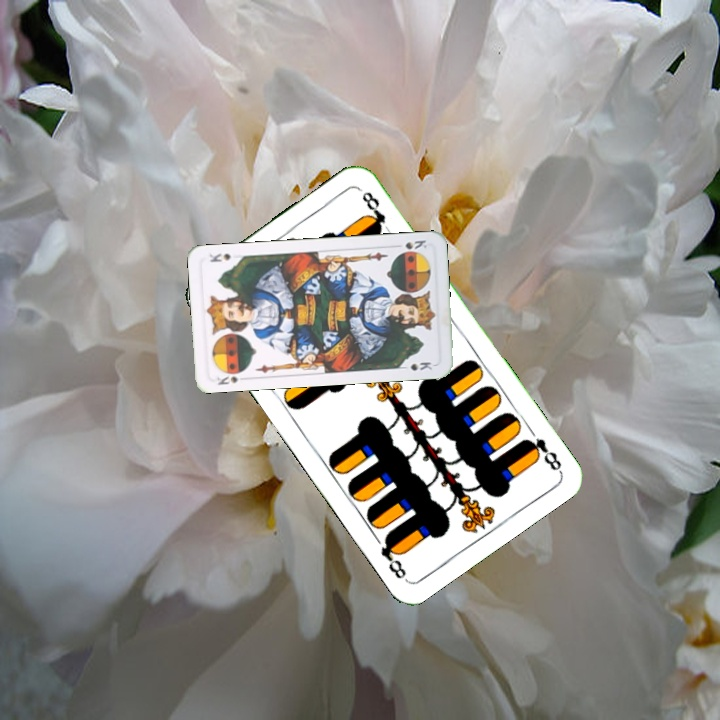E8: (519, 433, 564, 474)
SK: (213, 371, 240, 388), (401, 236, 429, 252)
